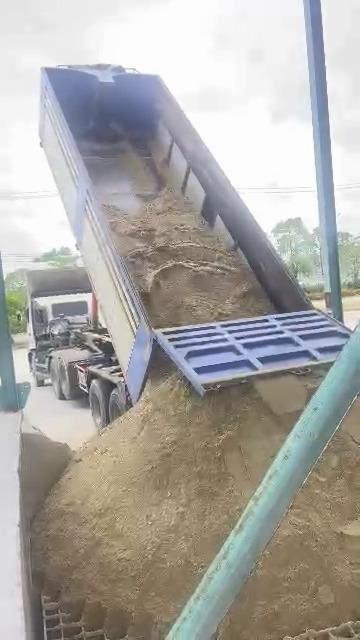sand: (34, 346, 293, 638), (221, 429, 360, 637), (104, 189, 272, 327), (20, 421, 69, 522), (254, 374, 322, 415), (346, 398, 360, 440)
